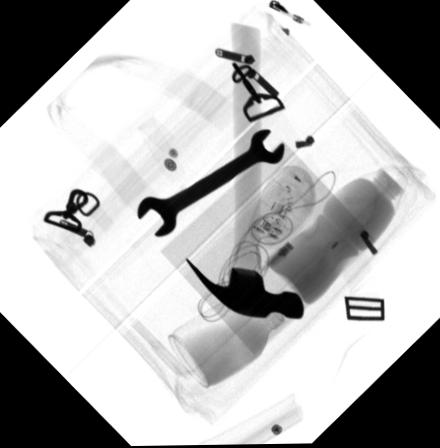Hammer: (182, 23, 304, 319)
Wrench: (135, 129, 283, 235)
